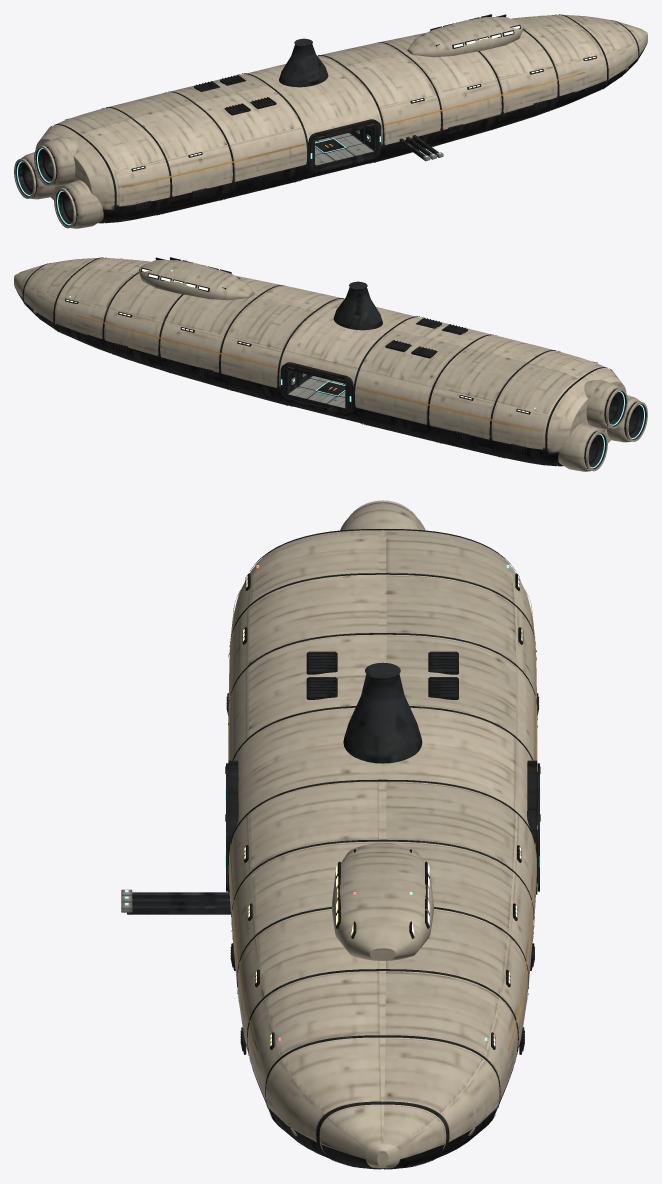
File: cargo_carrier.glb
The picture shows the model from 3 angles, top to bottom: view 1: azimuth 30°, elevation 25°; view 2: azimuth 150°, elevation 25°; view 3: azimuth 270°, elevation 25°; orthographic projection. The views are drawn at different scales.
Visible parts, largest first — view 1: hull, interior, emissive; view 2: hull, interior, emissive; view 3: hull.
Boxes of the visible parts, box(x1,y1,x2,y2) form: hull: box(14, 14, 647, 228); interior: box(314, 126, 375, 167); emissive: box(17, 15, 592, 225); hull: box(14, 257, 647, 471); interior: box(286, 369, 347, 410); emissive: box(69, 258, 644, 468); hull: box(121, 500, 540, 1169).
Size of the model in its own units: 8150 by 1543 by 2458.
4 materials, 4 textured.
